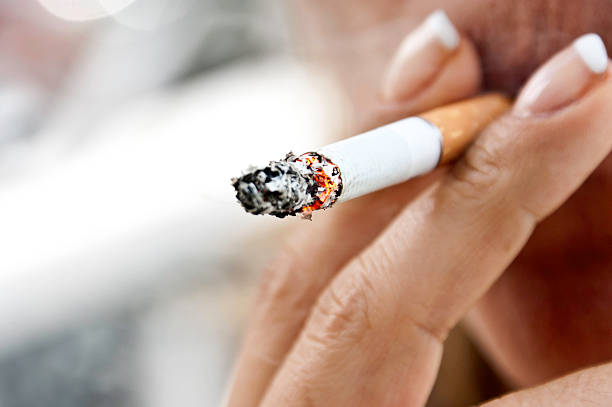cigarette: (233, 94, 510, 219)
